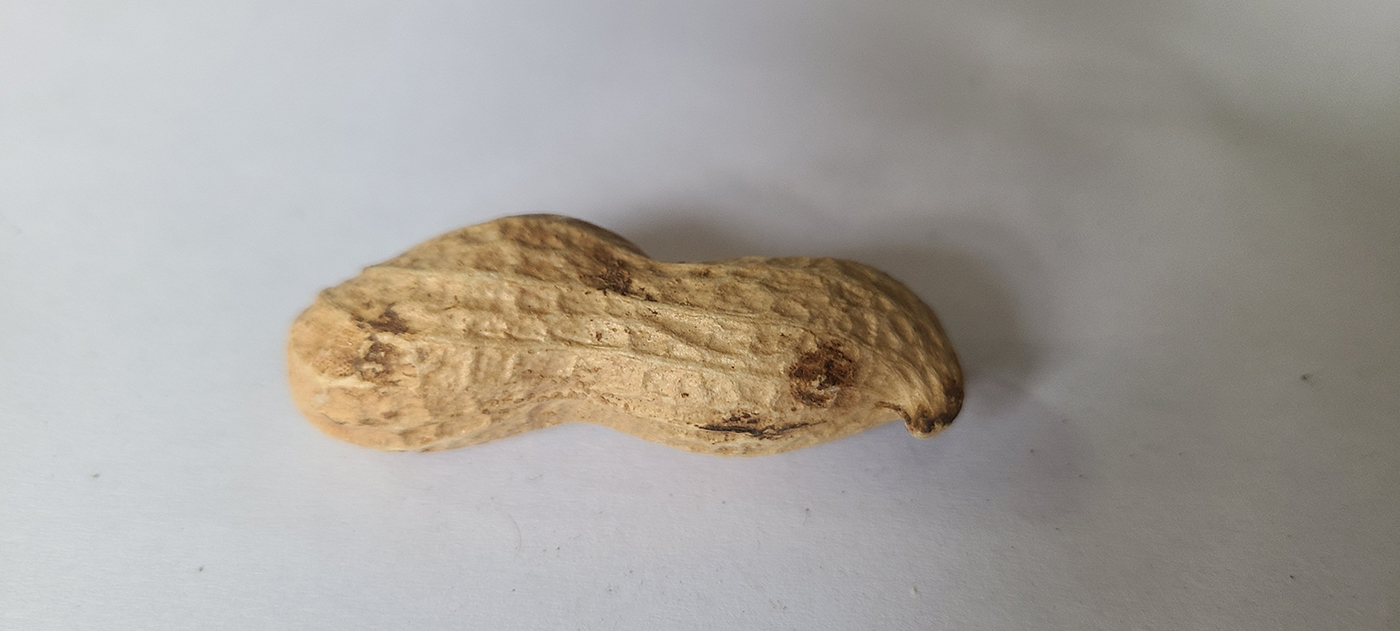h: (284, 208, 965, 459)
